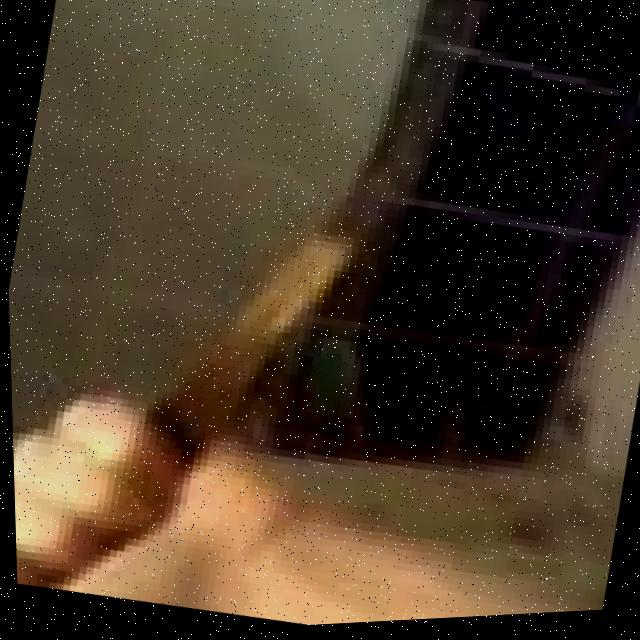knife: (125, 87, 437, 502)
